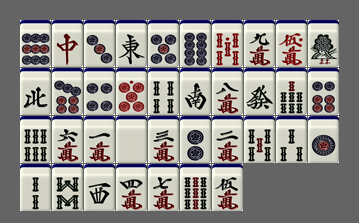0m: (276, 20, 307, 67)
0p: (116, 68, 147, 115)
0s: (212, 20, 243, 67)
1m: (84, 116, 115, 163)
1p: (308, 116, 339, 163)
1s: (308, 20, 339, 67)
1z: (116, 20, 147, 67)
2m: (212, 116, 243, 163)
2p: (180, 116, 211, 163)
2s: (20, 164, 51, 211)
2z: (180, 68, 211, 115)
3m: (148, 116, 179, 163)
3p: (84, 20, 115, 67)
3s: (276, 116, 307, 163)
3z: (84, 164, 115, 211)
4m: (116, 164, 147, 211)
4p: (84, 68, 115, 115)
4s: (148, 68, 179, 115)
4z: (20, 68, 51, 115)
5m: (212, 164, 243, 211)
5p: (148, 20, 179, 67)
5s: (244, 116, 275, 163)
5z: (116, 116, 147, 163)
6m: (52, 116, 83, 163)
6p: (308, 68, 339, 115)
6s: (20, 116, 51, 163)
6z: (244, 68, 275, 115)
7m: (148, 164, 179, 211)
7p: (52, 68, 83, 115)
7s: (276, 68, 307, 115)
7z: (52, 20, 83, 67)
8m: (212, 68, 243, 115)
8p: (180, 20, 211, 67)
8s: (52, 164, 83, 211)
9m: (244, 20, 275, 67)
9p: (20, 20, 51, 67)
9s: (180, 164, 211, 211)
